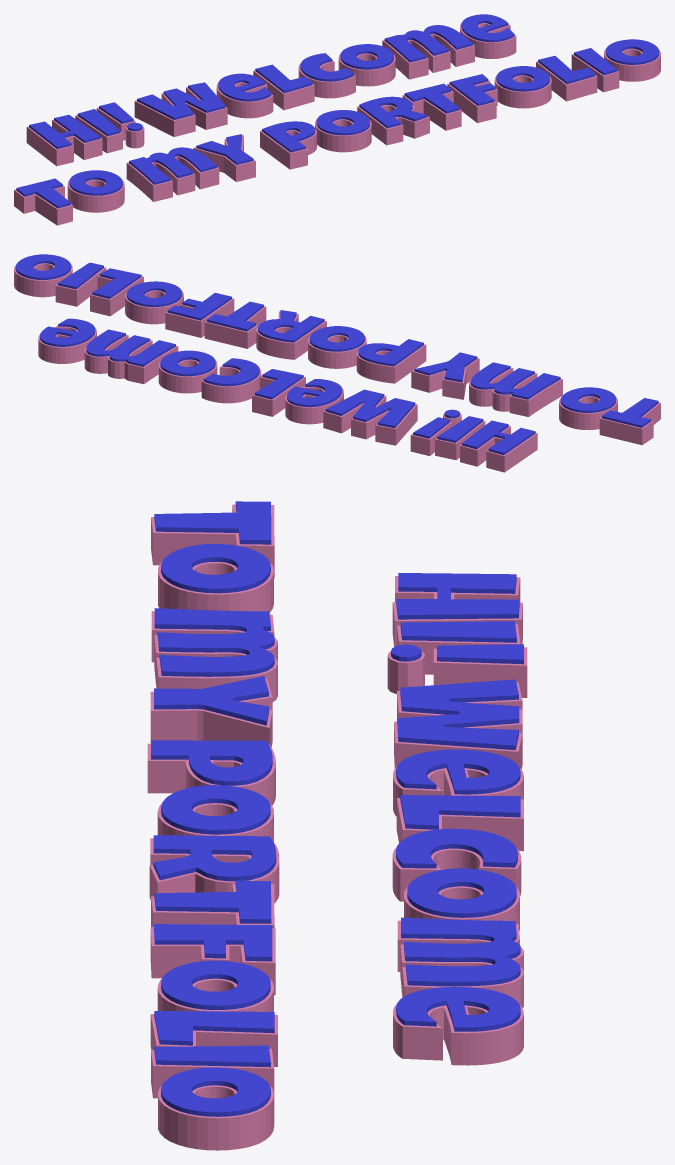
The picture shows the model from 3 angles, top to bottom: view 1: azimuth 30°, elevation 25°; view 2: azimuth 150°, elevation 25°; view 3: azimuth 270°, elevation 25°; orthographic projection. The views are drawn at different scales.
Parts seen in each view (by area): view 1: Retopo_Text, Retopo_Text.001; view 2: Retopo_Text, Retopo_Text.001; view 3: Retopo_Text.001, Retopo_Text.
Boxes of the visible parts, bbox=[...] form: Retopo_Text: bbox=[14, 22, 660, 225]; Retopo_Text.001: bbox=[16, 14, 659, 208]; Retopo_Text: bbox=[14, 263, 660, 472]; Retopo_Text.001: bbox=[15, 254, 658, 454]; Retopo_Text.001: bbox=[151, 501, 523, 1116]; Retopo_Text: bbox=[147, 504, 527, 1150].
Bounding box in the file's own units: 5.9 × 0.165 × 1.54.
